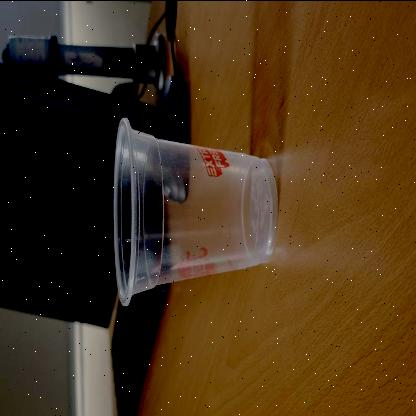Others: (113, 112, 279, 308)
